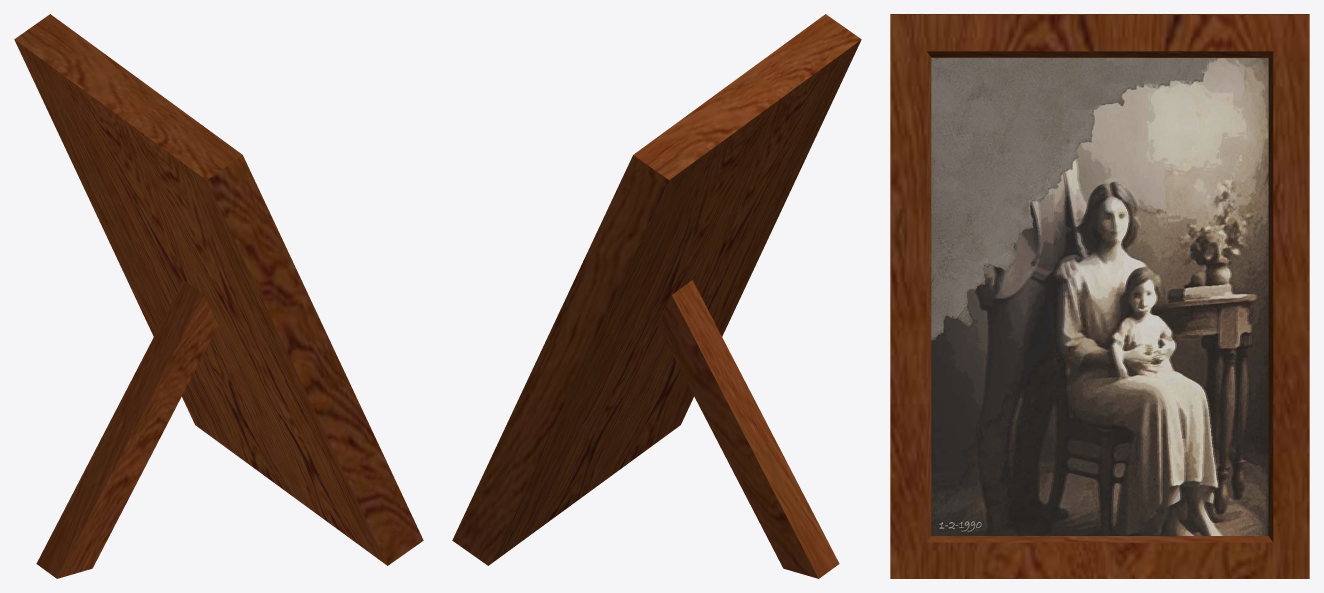
The model's file is Photo.fbx.
3 views of the same model, side by side, from view 1: azimuth 30°, elevation 25°; view 2: azimuth 150°, elevation 25°; view 3: azimuth 270°, elevation 25° (orthographic). The views are drawn at different scales.
Visible parts, largest first — view 1: Cube.001; view 2: Cube.001; view 3: Cube.001.
Boxes of the visible parts, <box> form: Cube.001: <box>14,14,423,578</box>; Cube.001: <box>452,14,861,578</box>; Cube.001: <box>890,14,1309,578</box>.
Bounding box in the file's own units: 19.35 × 30.47 × 22.99.
